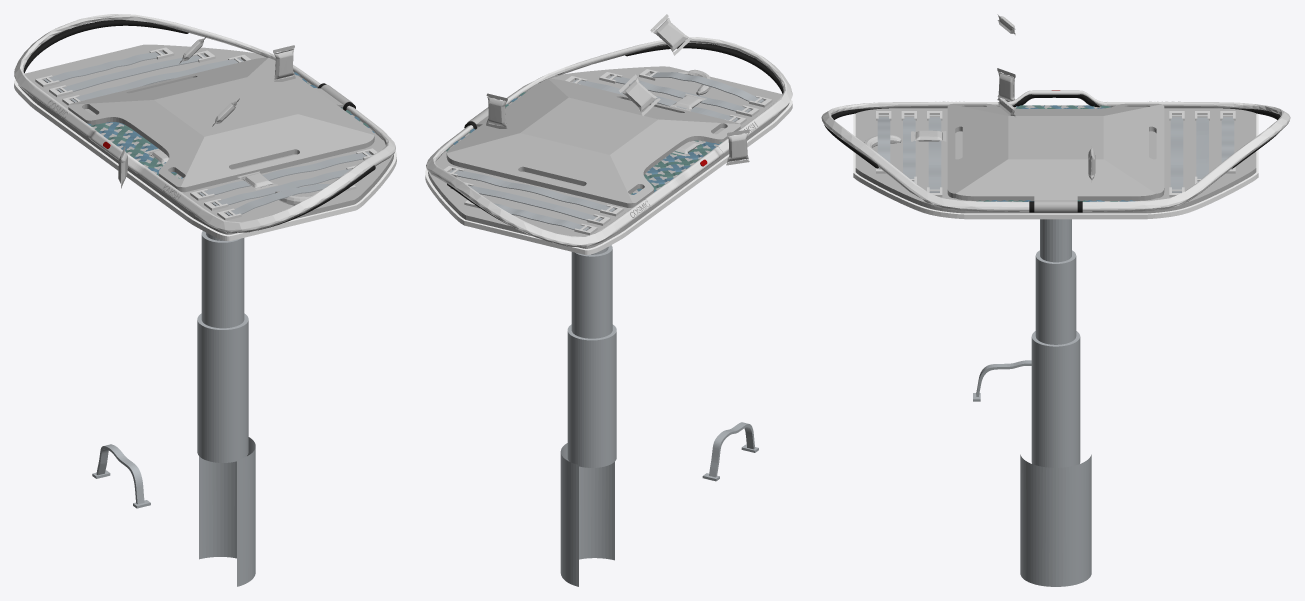
File: cosmic-kaksh-utility.glb
The picture shows the model from 3 angles, left to right: view 1: azimuth 30°, elevation 25°; view 2: azimuth 150°, elevation 25°; view 3: azimuth 270°, elevation 25°; orthographic projection. The views are drawn at different scales.
Parts seen in each view (by area): view 1: material-5, material--1, material-0, material-6, material-4, material-8, material-9, material-101; view 2: material-5, material--1, material-0, material-6, material-4, material-107, material-108, material-102, material-9, material-8, material-101; view 3: material-5, material--1, material-0, material-6, material-4.
Boxes of the visible parts, box(x1,y1,x2,y2) form: material-5: box(18, 44, 393, 234); material--1: box(44, 51, 371, 586); material-0: box(14, 14, 395, 233); material-6: box(14, 79, 396, 241); material-4: box(23, 20, 375, 232); material-8: box(90, 82, 368, 178); material-9: box(87, 72, 374, 178); material-101: box(273, 45, 295, 81); material-5: box(428, 66, 789, 248); material--1: box(450, 72, 764, 586); material-0: box(426, 37, 792, 247); material-6: box(425, 100, 792, 254); material-4: box(447, 43, 783, 223); material-107: box(650, 14, 691, 55); material-108: box(619, 74, 660, 115); material-102: box(726, 129, 749, 165); material-9: box(453, 95, 719, 194); material-8: box(446, 92, 722, 194); material-101: box(486, 93, 507, 128); material-5: box(855, 103, 1256, 213); material--1: box(877, 115, 1234, 586); material-0: box(821, 90, 1290, 211); material-6: box(853, 113, 1258, 219); material-4: box(824, 94, 1280, 212).
Bounding box in the file's own units: 1.08 × 2.34 × 1.84.
